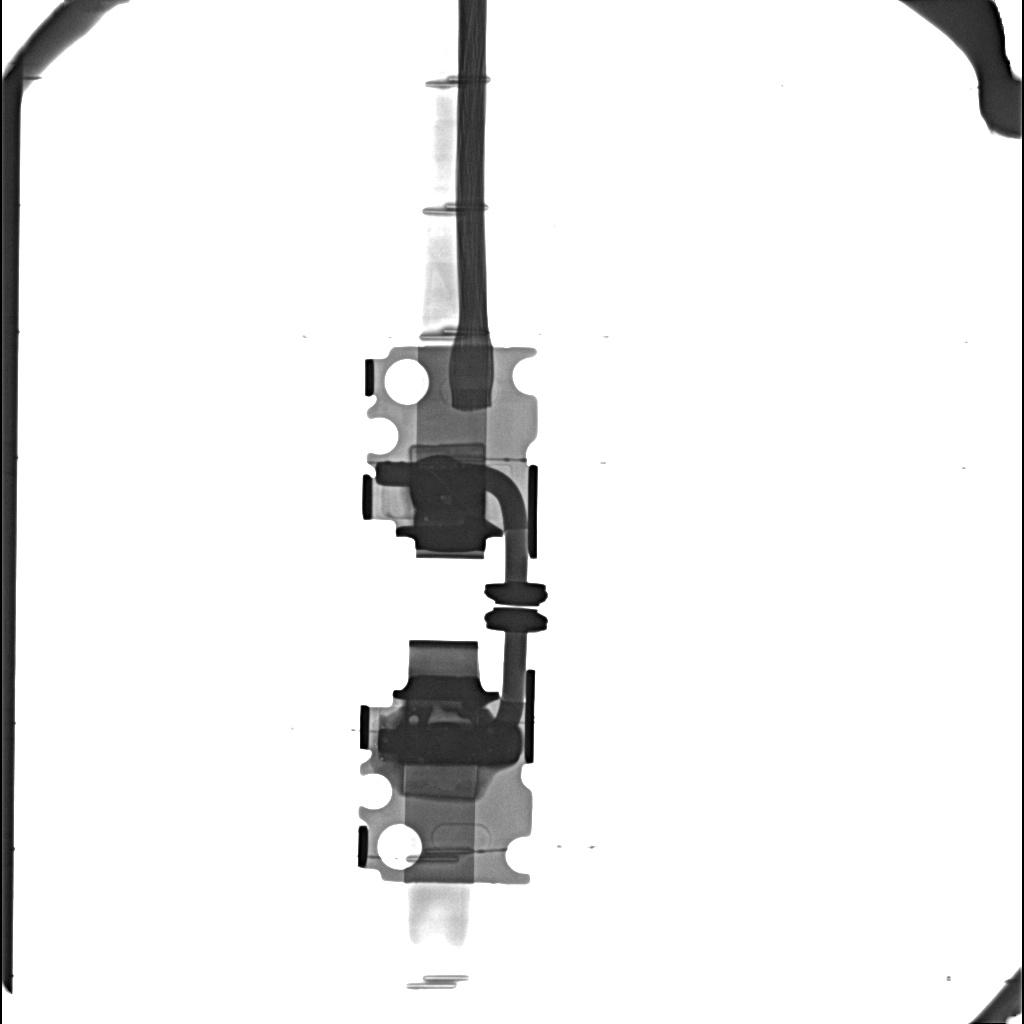defect: (397, 722, 521, 766), (400, 766, 479, 799), (409, 466, 484, 500), (409, 442, 487, 461), (428, 706, 471, 723), (409, 715, 418, 723)
